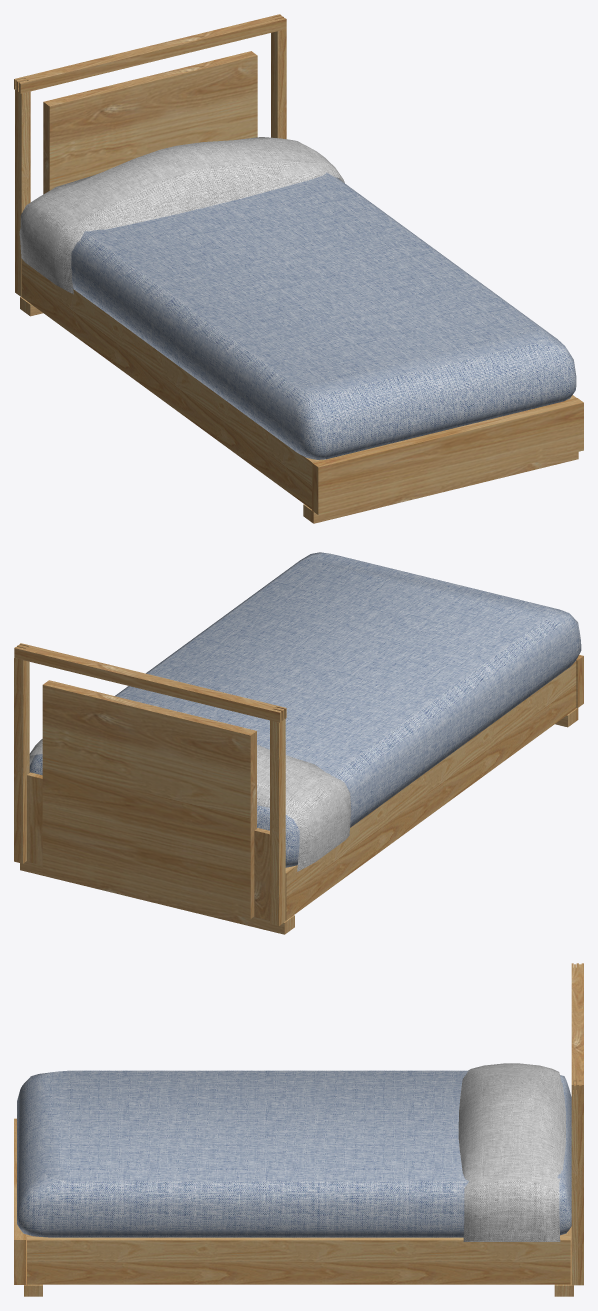
The model's file is SM_Bed_1.fbx.
3 views of the same model, one above another, from view 1: azimuth 30°, elevation 25°; view 2: azimuth 150°, elevation 25°; view 3: azimuth 270°, elevation 25° (orthographic). The views are drawn at different scales.
Visible parts, largest first — view 1: SM_Bed_1; view 2: SM_Bed_1; view 3: SM_Bed_1.
Boxes of the visible parts, box(x1,y1,x2,y2) form: SM_Bed_1: box(14, 14, 583, 523); SM_Bed_1: box(14, 552, 583, 934); SM_Bed_1: box(14, 963, 583, 1296).
Bounding box in the file's own units: 1.1 × 0.82 × 2.
Materials: 3 (3 with a texture image).
